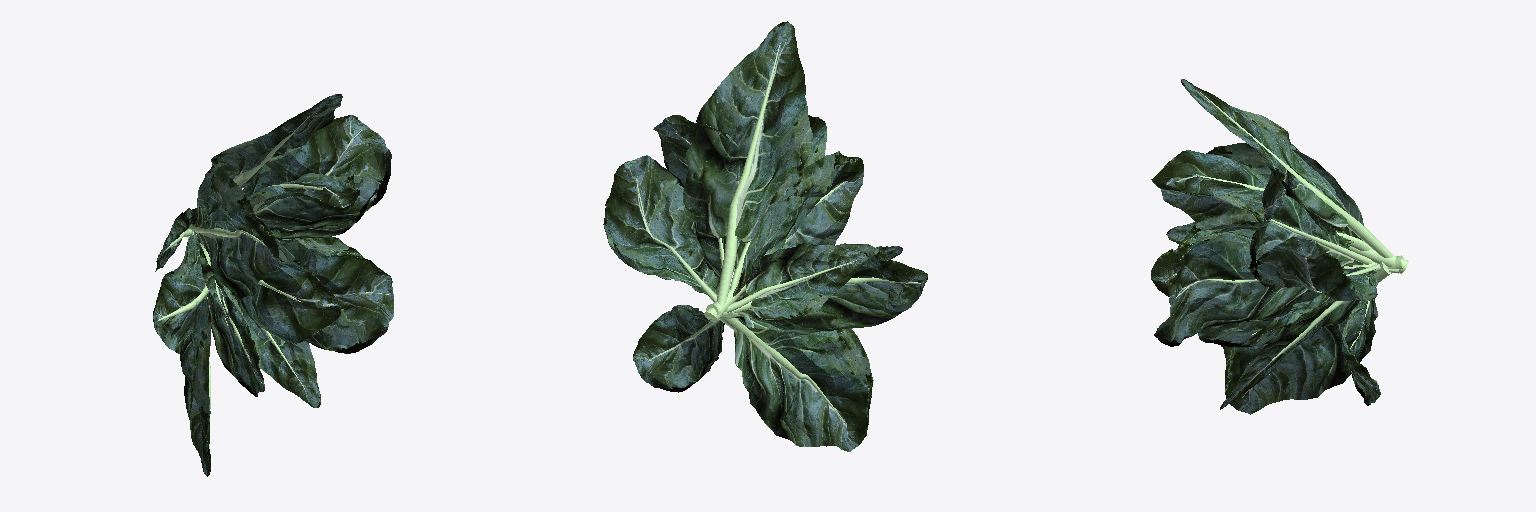
3 renders of one model, left to right at view 1: azimuth 30°, elevation 25°; view 2: azimuth 150°, elevation 25°; view 3: azimuth 270°, elevation 25°, orthographic.
Visible parts, largest first — view 1: plant_Cylinder.044; view 2: plant_Cylinder.044; view 3: plant_Cylinder.044.
Boxes of the visible parts, x1,y1,x2,y2 form: plant_Cylinder.044: [153, 94, 393, 476]; plant_Cylinder.044: [603, 21, 927, 451]; plant_Cylinder.044: [1151, 79, 1408, 414].
Bounding box in the file's own units: 0.3012 × 0.4174 × 0.256.
Materials: 2 (1 with a texture image).